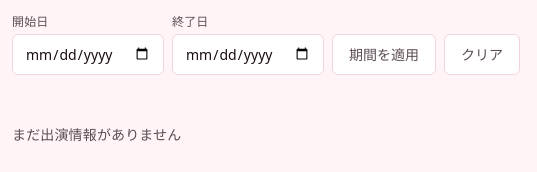
Test case: ProgramFeedList › 日付範囲フィルタで0件のとき「該当する番組が見つかりません」が表示される
Type "2020-01-01" into the date field labelled "開始日".
click(88, 54); type("2020-01-01")  # box x1=12 y1=34 x2=164 y2=75
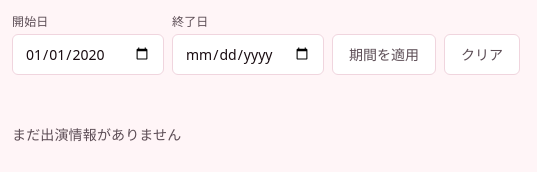
Type "2020-01-31" into the date field labelled "終了日".
click(248, 54); type("2020-01-31")  # box x1=172 y1=34 x2=324 y2=75
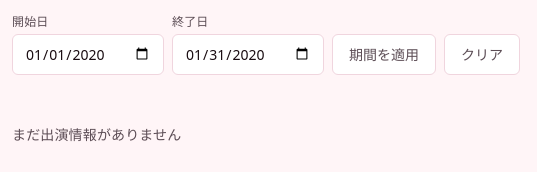
Click the button "期間を適用".
click(384, 54)  # box x1=332 y1=34 x2=436 y2=75
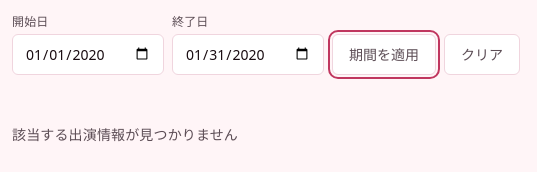
Now the text "該当する出演情報が見つかりません" is shown, box x1=12 y1=125 x2=238 y2=144
